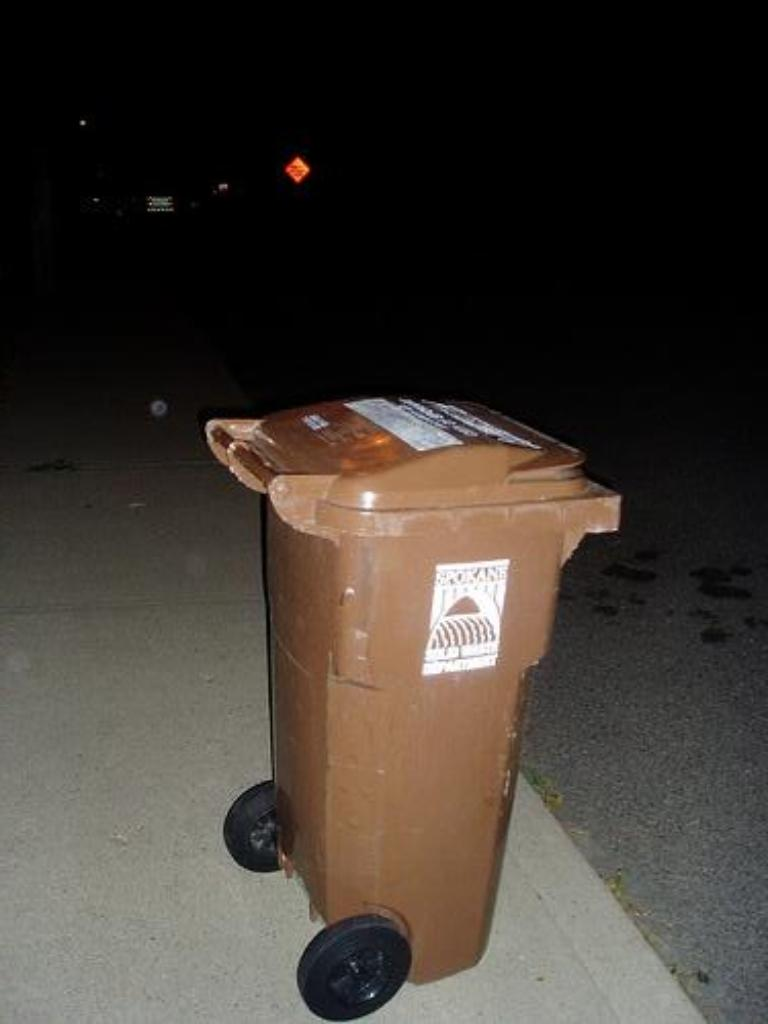dustbin: (200, 375, 641, 1004)
